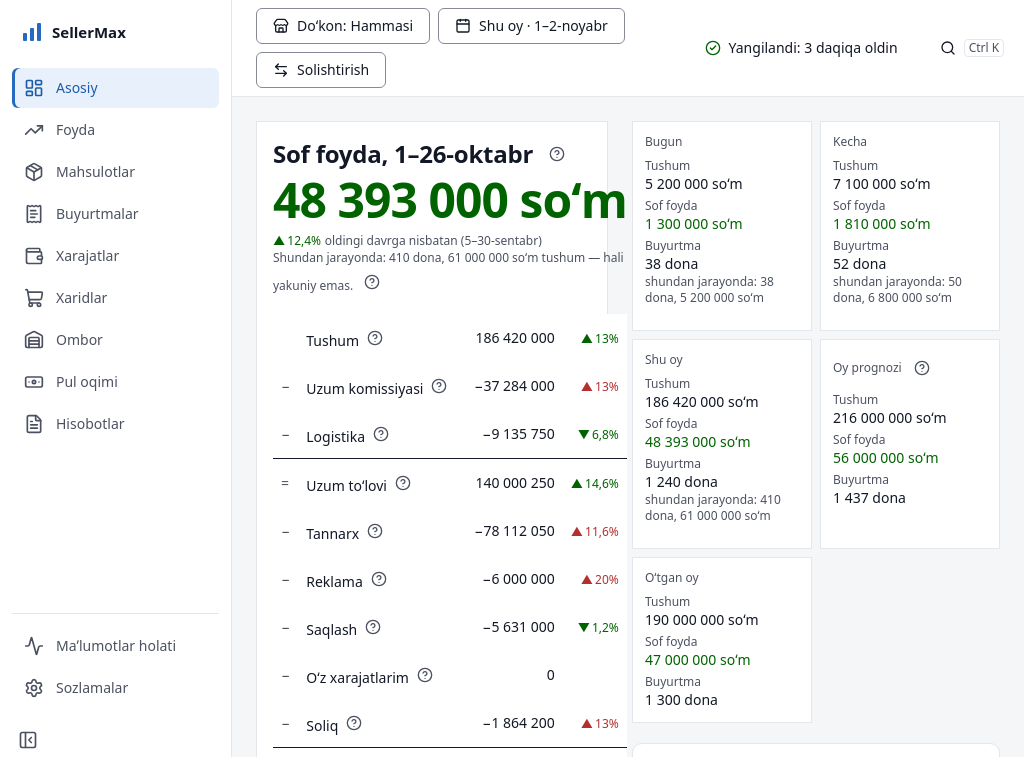
Test: hisob varag'i › har qatorda formula: F-raqam va manba
Expected: the text with test id "net-profit" is shown, [273,174,627,226]
Step 1. Click the button named "Qanday hisoblanadi: Soliq" → (354, 723), box [338,707,370,739]
(page scrolled)
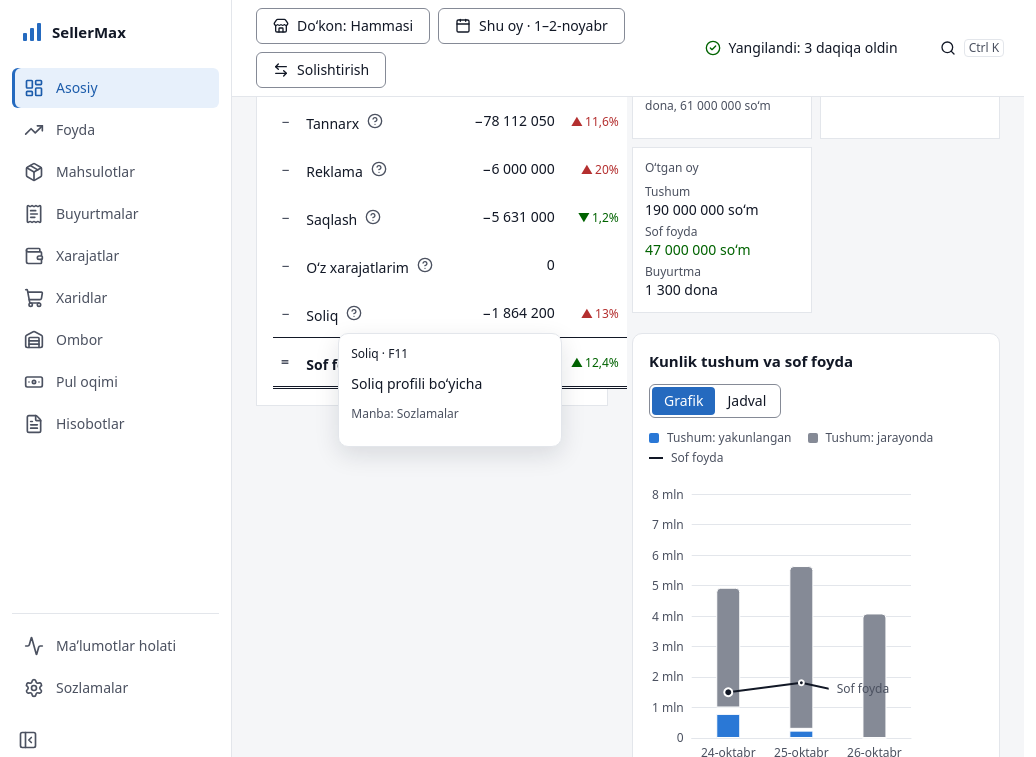
Now the text "Soliq · F11" is shown, box [351,345,408,362]
Now the text "Soliq profili boʻyicha" is shown, box [351,374,482,393]
